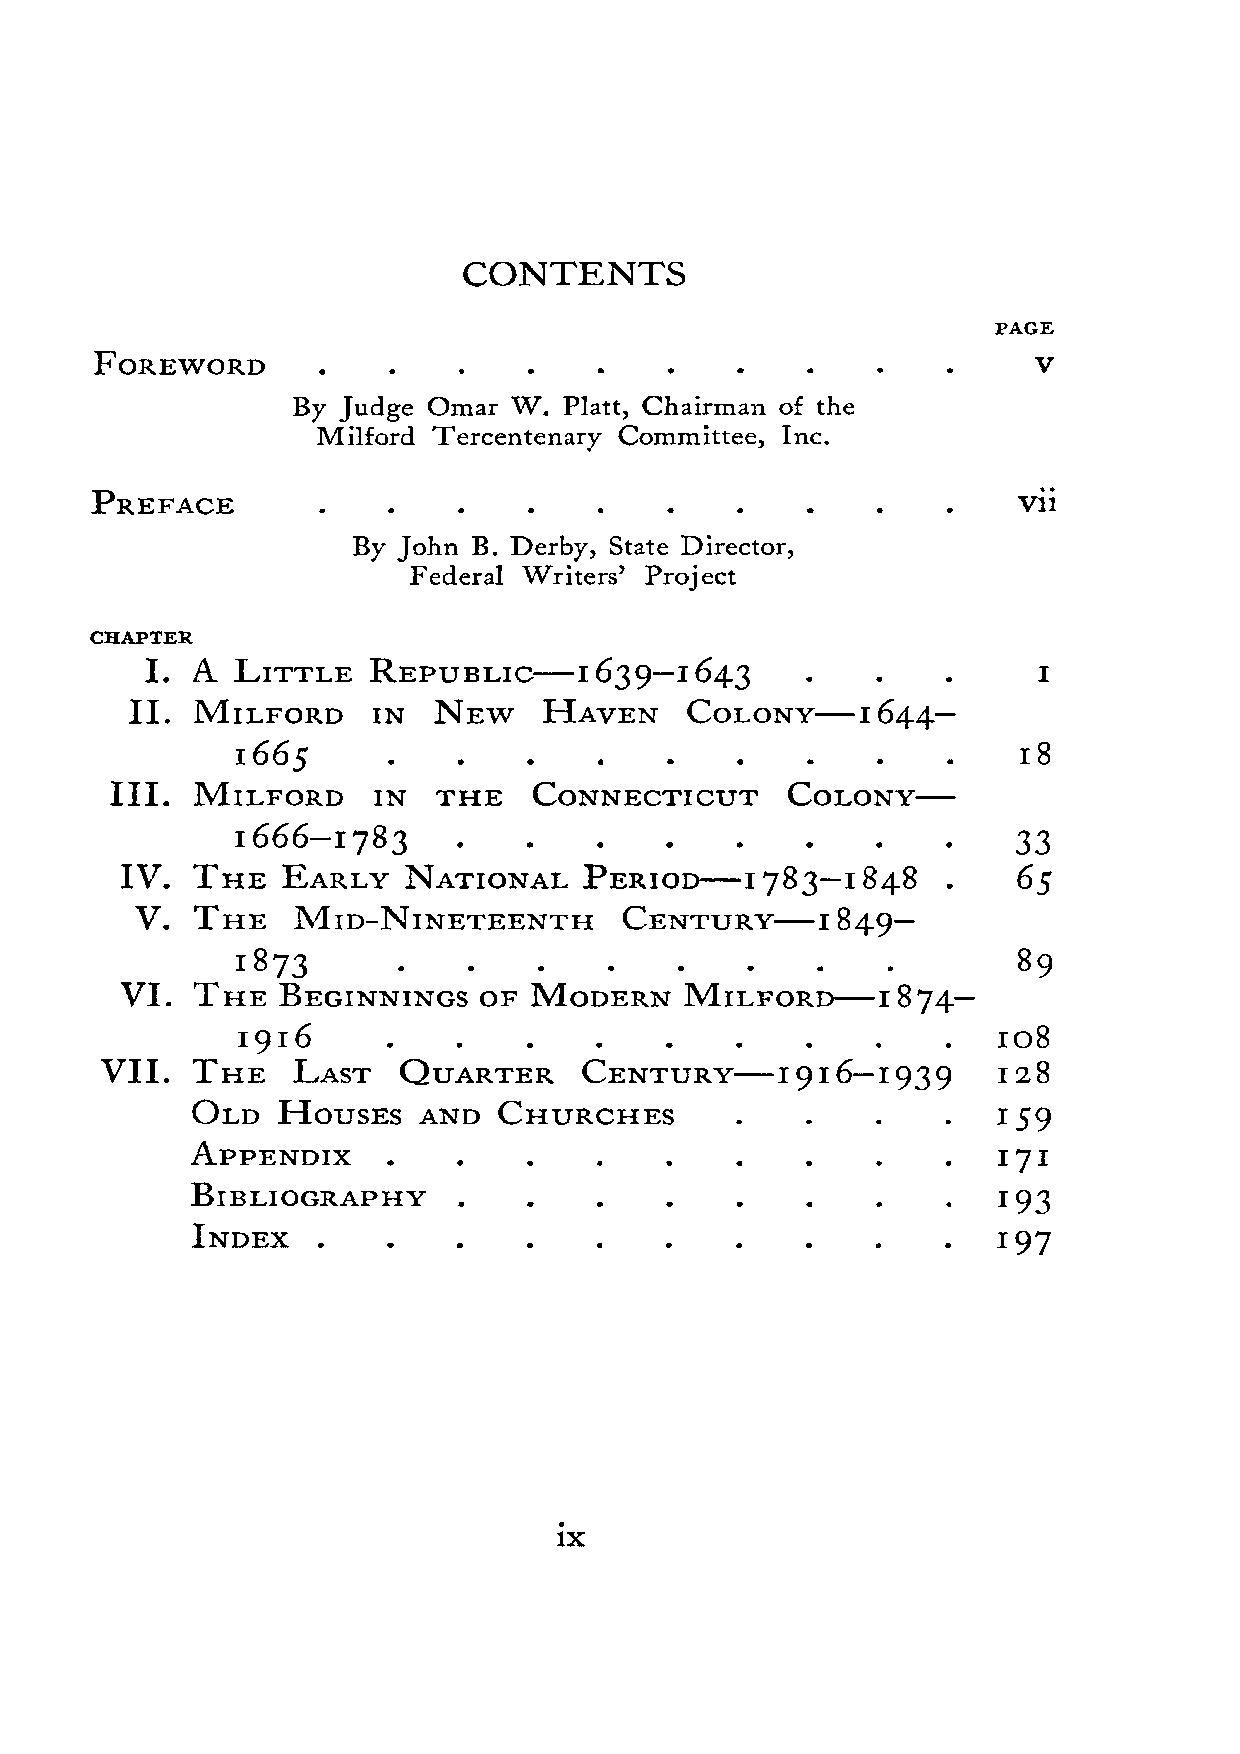TOC_chapter: (98, 1053, 961, 1133), (105, 777, 961, 855), (126, 695, 962, 772), (125, 902, 919, 978), (117, 982, 976, 1048), (115, 862, 925, 896), (142, 651, 768, 688), (187, 1180, 429, 1210), (85, 482, 250, 522), (90, 345, 268, 381), (188, 1138, 360, 1172), (188, 1219, 287, 1255)
TOC_pagenumber: (992, 1224, 1057, 1260), (990, 1182, 1053, 1217), (994, 1098, 1053, 1134), (993, 1019, 1052, 1049), (997, 1143, 1052, 1176), (1015, 737, 1060, 774), (1012, 943, 1053, 982), (1011, 484, 1062, 515), (997, 1057, 1053, 1084), (1012, 864, 1056, 894), (1013, 825, 1053, 856), (1028, 348, 1062, 373), (1027, 658, 1053, 684)
chapter: (459, 258, 688, 289)
